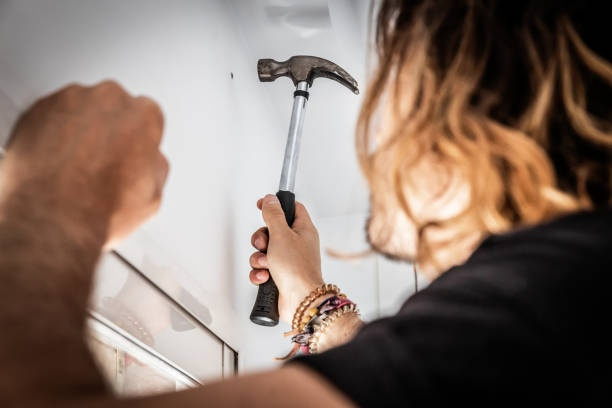hammer: (248, 48, 360, 337)
